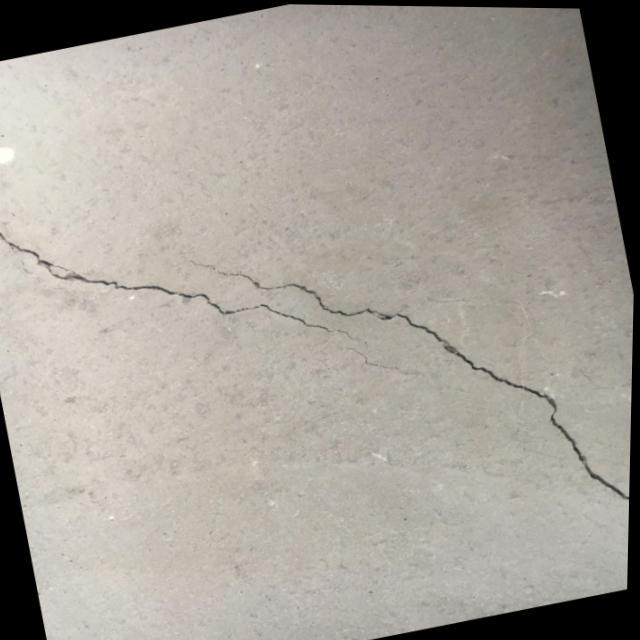Crack: (0, 113, 351, 411), (215, 200, 565, 465), (539, 371, 634, 537)
